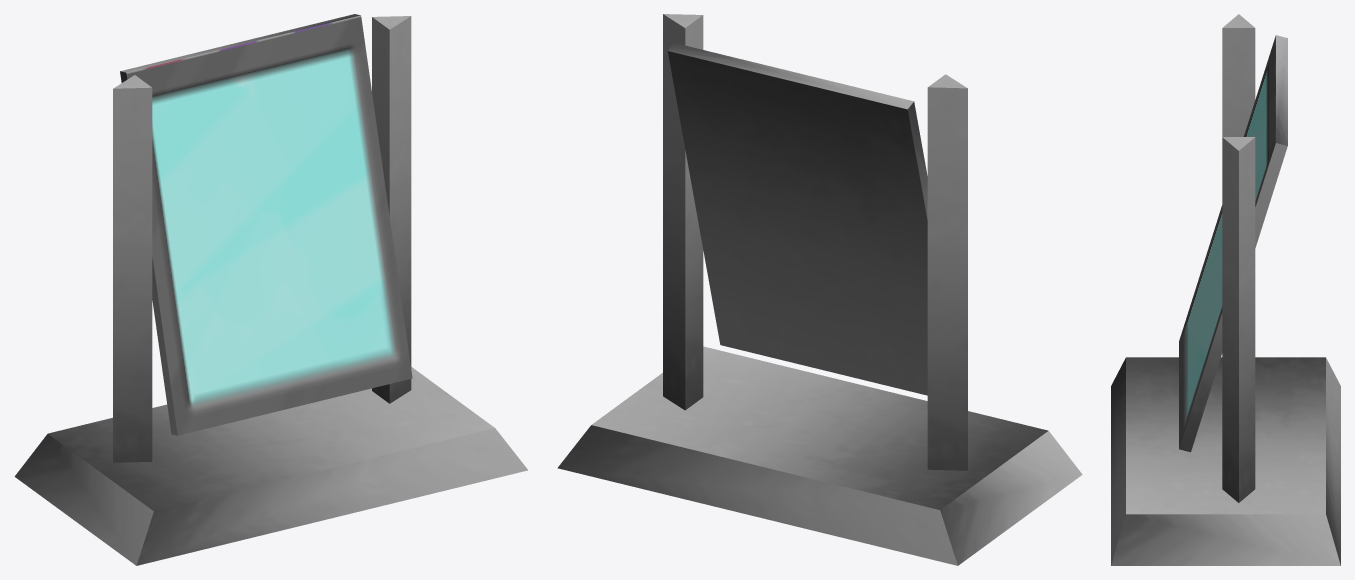
The model's file is CounterMirror.fbx.
3 renders of one model, left to right at view 1: azimuth 30°, elevation 25°; view 2: azimuth 150°, elevation 25°; view 3: azimuth 270°, elevation 25°, orthographic. The views are drawn at different scales.
Parts seen in each view (by area): view 1: Maya_File_Assets:TexturedAssetsCurrent:JohnPepper02Assets:De; view 2: Maya_File_Assets:TexturedAssetsCurrent:JohnPepper02Assets:De; view 3: Maya_File_Assets:TexturedAssetsCurrent:JohnPepper02Assets:De.
Boxes of the visible parts, bbox=[...] form: Maya_File_Assets:TexturedAssetsCurrent:JohnPepper02Assets:De: bbox=[14, 14, 527, 565]; Maya_File_Assets:TexturedAssetsCurrent:JohnPepper02Assets:De: bbox=[557, 14, 1082, 565]; Maya_File_Assets:TexturedAssetsCurrent:JohnPepper02Assets:De: bbox=[1111, 14, 1340, 565].
Bounding box in the file's own units: 0.3547 × 0.3604 × 0.1912.
